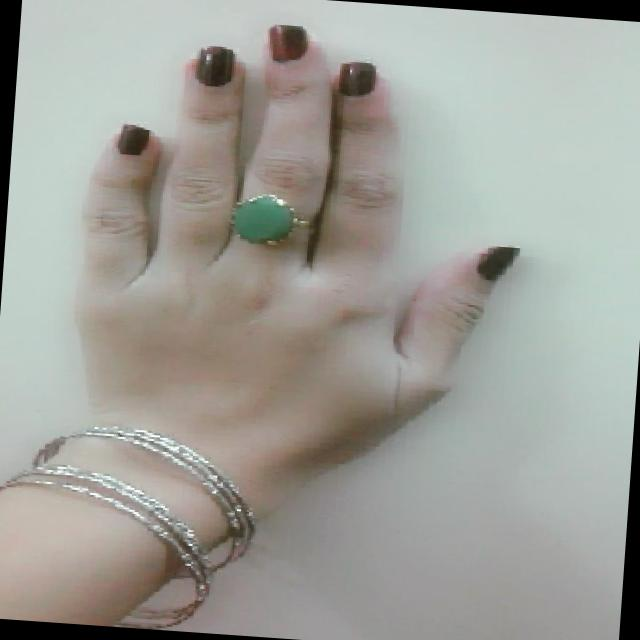Nail: (195, 45, 234, 85), (476, 246, 519, 280), (268, 24, 308, 58), (337, 61, 376, 95), (118, 123, 149, 155)
